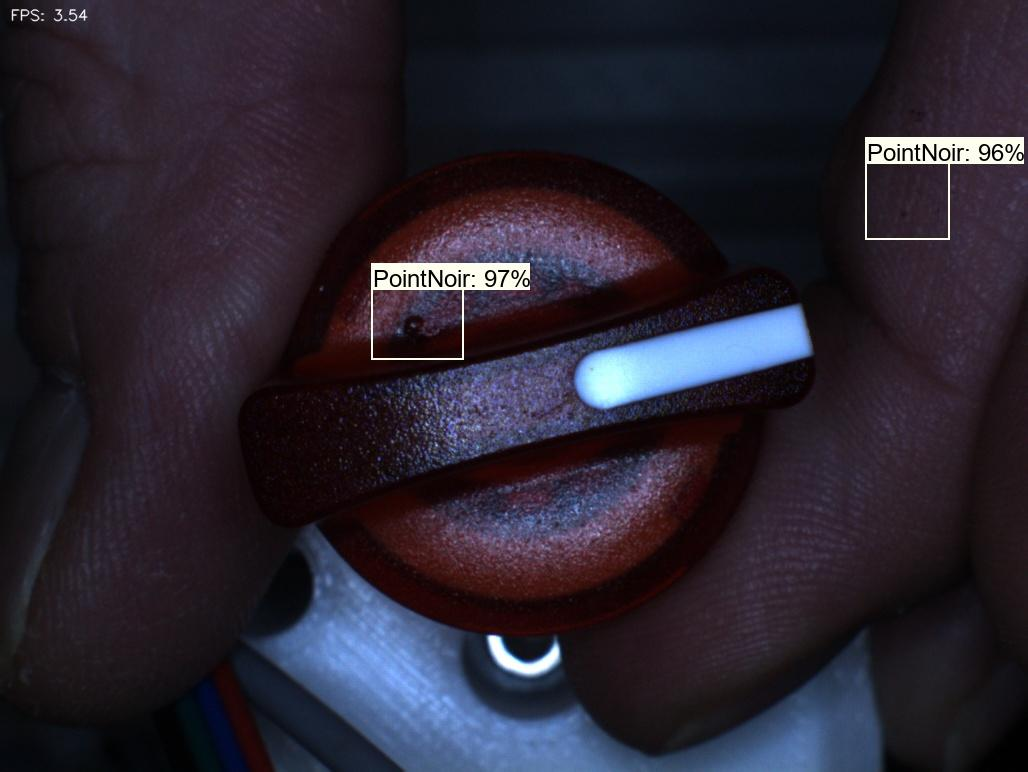Choc: (374, 293, 453, 364)
